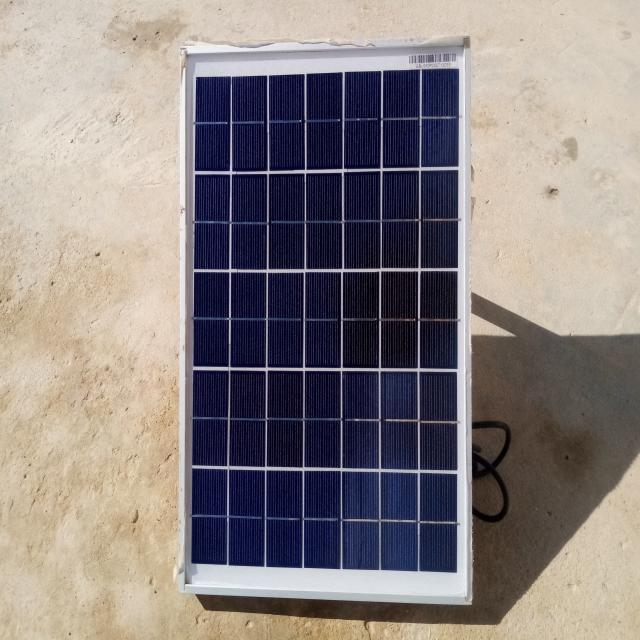no faulty: (177, 41, 474, 601)
